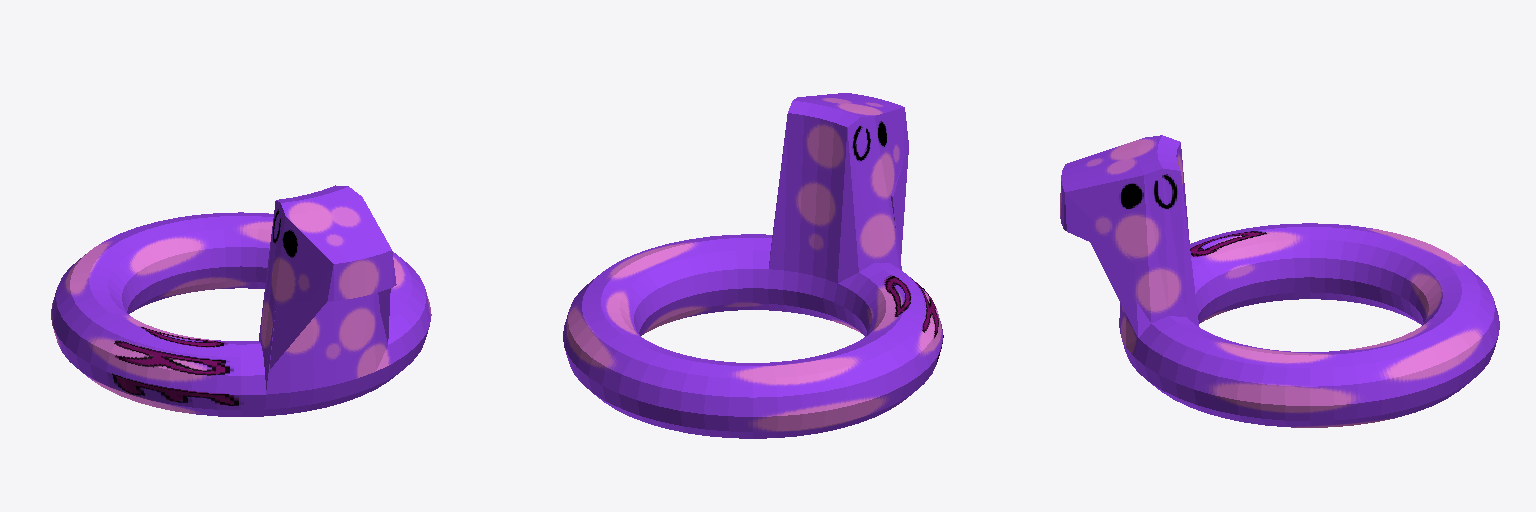
The picture shows the model from 3 angles: view 1: azimuth 30°, elevation 25°; view 2: azimuth 150°, elevation 25°; view 3: azimuth 270°, elevation 25°; orthographic projection.
Visible parts, largest first — view 1: Flotador_Torus.001; view 2: Flotador_Torus.001; view 3: Flotador_Torus.001.
Boxes of the visible parts, <box> form: Flotador_Torus.001: <box>51,185,431,416</box>; Flotador_Torus.001: <box>563,93,943,438</box>; Flotador_Torus.001: <box>1060,135,1499,427</box>.
Size of the model in its own units: 1.21 by 0.7308 by 1.4.
Materials: 1 (1 with a texture image).